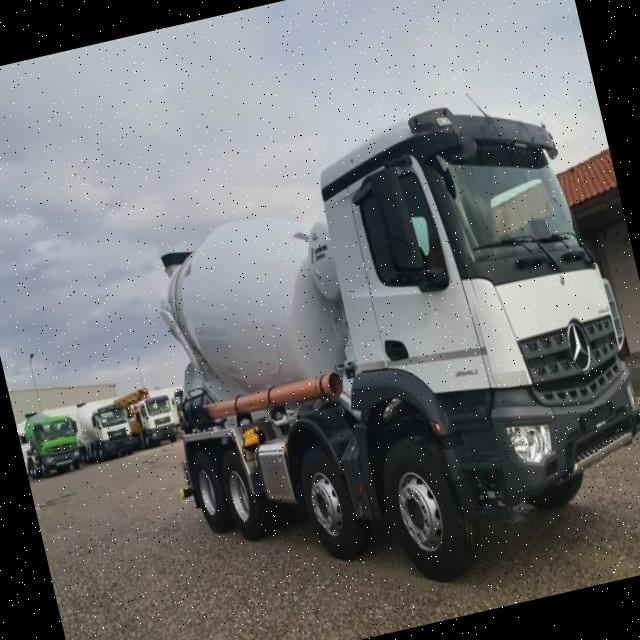Mixer Truck: (108, 79, 640, 635), (13, 402, 88, 481), (74, 394, 140, 468), (124, 388, 182, 448)
